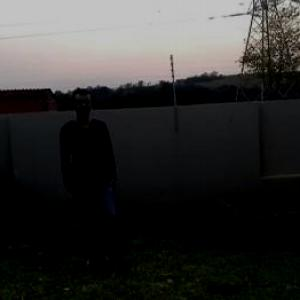follow: (60, 86, 120, 274)
